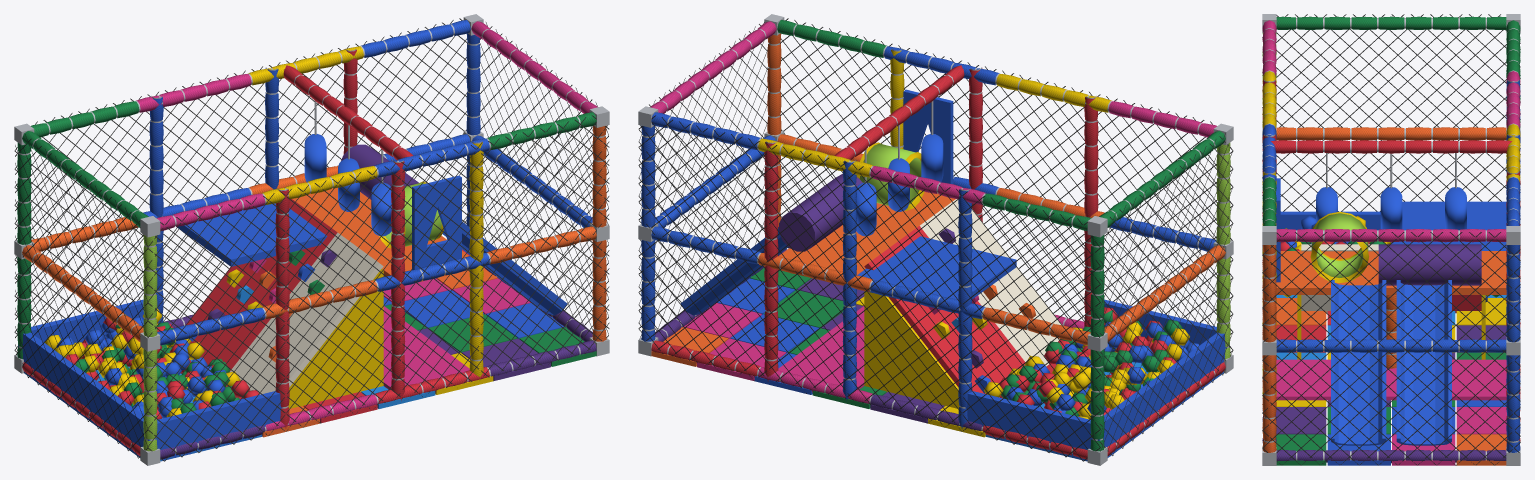
The model's file is web.glb.
3 renders of one model, left to right at view 1: azimuth 30°, elevation 25°; view 2: azimuth 150°, elevation 25°; view 3: azimuth 270°, elevation 25°, orthographic. The views are drawn at different scales.
Parts seen in each view (by area): view 1: vinil_tubo, plataforma, rede, tatame, bolinhas, metal, escorregador_plastico; view 2: vinil_tubo, plataforma, rede, tatame, bolinhas, metal, escorregador_plastico; view 3: vinil_tubo, plataforma, rede, escorregador_plastico, tatame, metal, bolinhas.
Part boxes in pixels (x1,y1,x2,y2): vinil_tubo: (17, 20, 606, 459); plataforma: (18, 134, 469, 461); rede: (14, 18, 609, 461); tatame: (181, 268, 596, 437); bolinhas: (44, 308, 259, 419); metal: (14, 14, 609, 465); escorregador_plastico: (190, 221, 567, 362); vinil_tubo: (641, 20, 1230, 459); plataforma: (778, 89, 1229, 461); rede: (638, 18, 1233, 461); tatame: (651, 268, 1056, 437); bolinhas: (984, 307, 1198, 419); metal: (638, 14, 1233, 465); escorregador_plastico: (680, 227, 1036, 393); vinil_tubo: (1262, 16, 1520, 463); plataforma: (1276, 178, 1506, 400); rede: (1262, 14, 1520, 465); escorregador_plastico: (1331, 280, 1451, 445); tatame: (1276, 298, 1506, 465); metal: (1262, 14, 1520, 465); bolinhas: (1280, 215, 1499, 302).
Bounding box in the file's own units: 4 × 2 × 2.
Materials: 7 (7 with a texture image).
